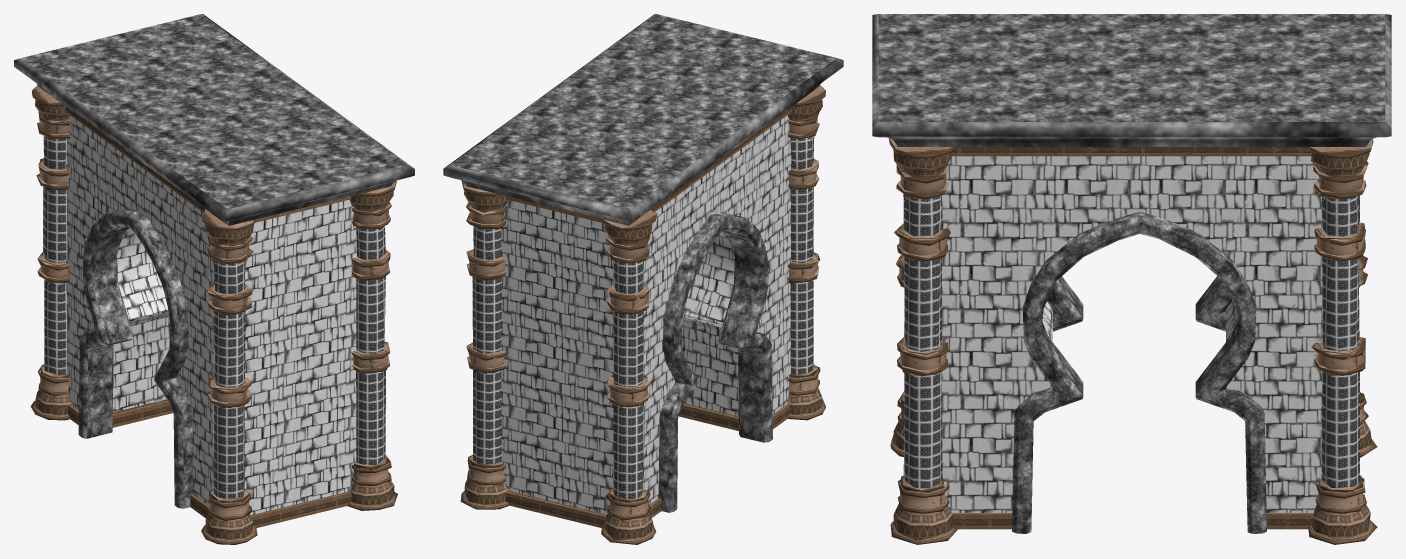
The model's file is SM_arch_01.fbx.
3 renders of one model, left to right at view 1: azimuth 30°, elevation 25°; view 2: azimuth 150°, elevation 25°; view 3: azimuth 270°, elevation 25°, orthographic. The views are drawn at different scales.
Parts seen in each view (by area): view 1: SM_arch_01_LOD0; view 2: SM_arch_01_LOD0; view 3: SM_arch_01_LOD0.
Boxes of the visible parts, x1=… form: SM_arch_01_LOD0: x1=14, y1=14, x2=414, y2=544; SM_arch_01_LOD0: x1=443, y1=14, x2=843, y2=544; SM_arch_01_LOD0: x1=872, y1=14, x2=1391, y2=544.
Size of the model in its own units: 585 by 1120 by 1001.
